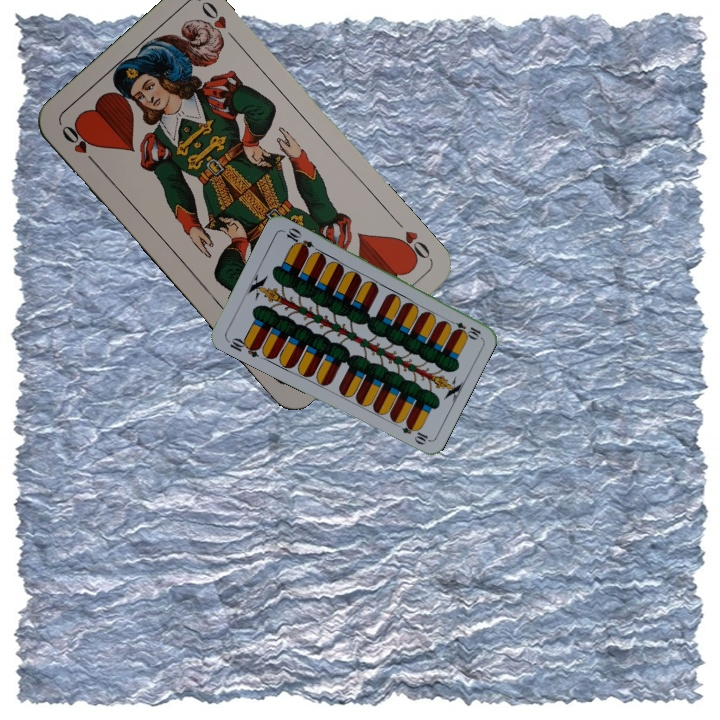E10: (223, 333, 263, 360), (444, 316, 483, 341)
HO: (57, 121, 101, 169), (389, 226, 434, 266)
